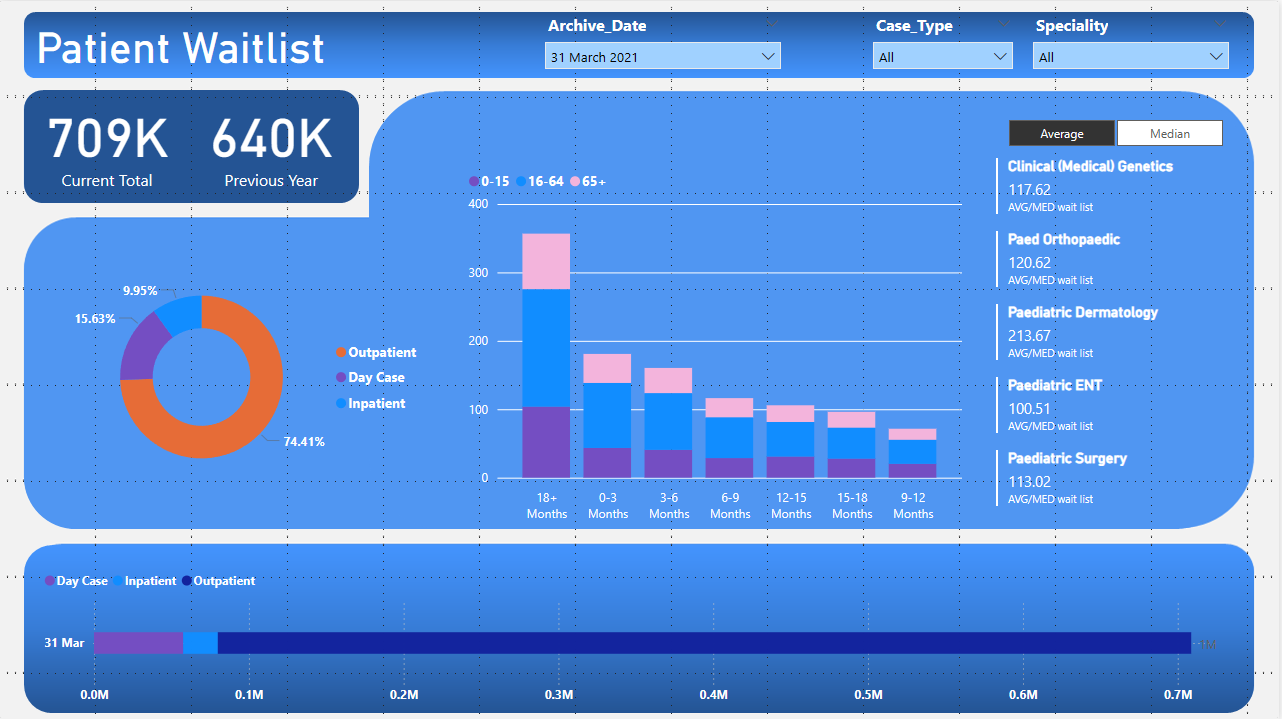

What the dashboard file says about the page in this screenshot:
{"tool":"powerbi","page":{"name":"Waiting List Summary","canvas":[1280,720],"ordinal":0},"visuals":[{"type":"card","fields":{"Values":["Combined Data.Latest month wait list"]},"box":[24,88,168,104],"z":0},{"type":"card","fields":{"Values":["Combined Data.PY month wait list"]},"box":[192,88,160,104],"z":1000},{"type":"slicer","fields":{"Values":["Calculation Method.Calc Method"]},"box":[984,112,264,40],"z":2000},{"type":"donutChart","fields":{"Category":["Combined Data.Case_Type"],"Y":["Combined Data.AVG/MED wait list"]},"box":[64,224,368,304],"z":3000},{"type":"columnChart","fields":{"Category":["Combined Data.Time_Bands"],"Y":["Combined Data.AVG/MED wait list"],"Series":["Combined Data.Age_Profile"]},"box":[464,160,504,368],"z":4000},{"type":"multiRowCard","fields":{"Values":["Combined Data.Speciality","Combined Data.AVG/MED wait list"]},"box":[992,152,248,376],"z":5000},{"type":"barChart","fields":{"Category":["Combined Data.Archive_Date"],"Y":["Sum(Combined Data.Total)"],"Series":["Combined Data.Case_Type"]},"box":[40,560,1200,152],"z":6000},{"type":"slicer","fields":{"Values":["Combined Data.Case_Type"]},"box":[864,8,160,72],"z":8000},{"type":"slicer","fields":{"Values":["Combined Data.Speciality"]},"box":[1024,8,216,72],"z":9000},{"type":"textbox","box":[32,0,408,80],"z":10000},{"type":"slicer","fields":{"Values":["Combined Data.Archive_Date"]},"box":[536,8,256,72],"z":11000}]}

Visuals, with their boxes in screenshot pixels (x1, y1, x2, y2), scaled from the page's 1280x720 canvas onto the 1282x719 screenshot:
card - Combined Data.Latest month wait list: detection(24, 88, 192, 192)
card - Combined Data.PY month wait list: detection(192, 88, 353, 192)
slicer - Calculation Method.Calc Method: detection(986, 112, 1250, 152)
donutChart - Combined Data.Case_Type x Combined Data.AVG/MED wait list: detection(64, 224, 433, 527)
columnChart - Combined Data.Time_Bands x Combined Data.AVG/MED wait list: detection(465, 160, 970, 527)
multiRowCard - Combined Data.Speciality x Combined Data.AVG/MED wait list: detection(994, 152, 1242, 527)
barChart - Combined Data.Archive_Date x Sum(Combined Data.Total): detection(40, 559, 1242, 711)
slicer - Combined Data.Case_Type: detection(865, 8, 1026, 80)
slicer - Combined Data.Speciality: detection(1026, 8, 1242, 80)
textbox: detection(32, 0, 441, 80)
slicer - Combined Data.Archive_Date: detection(537, 8, 793, 80)
